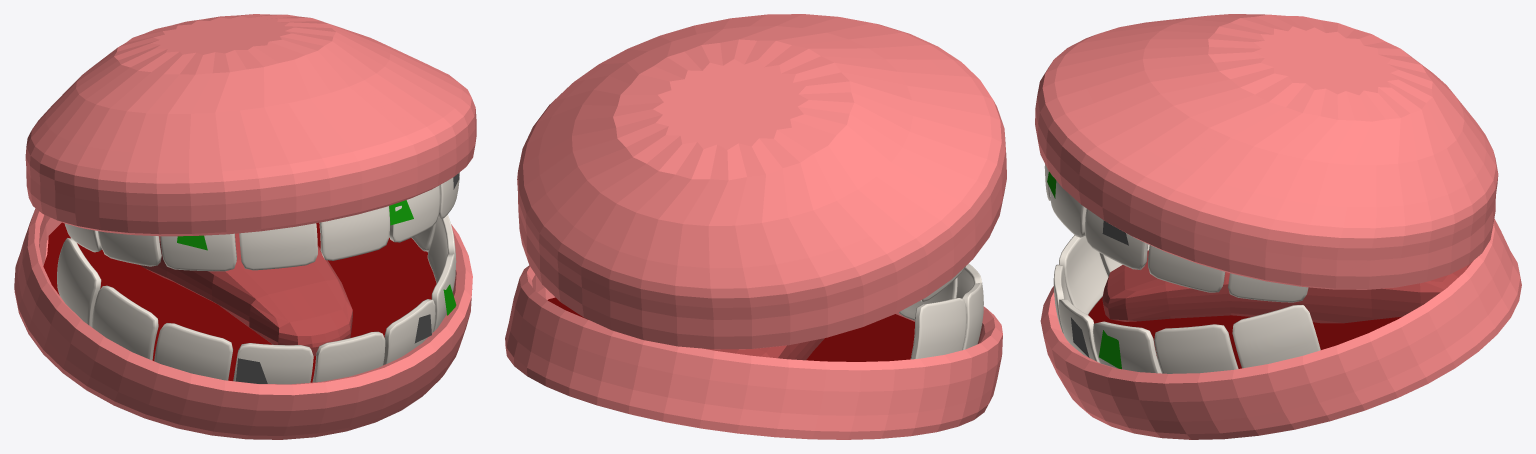
The model's file is dirty_mouth.fbx.
The picture shows the model from 3 angles, left to right: view 1: azimuth 30°, elevation 25°; view 2: azimuth 150°, elevation 25°; view 3: azimuth 270°, elevation 25°; orthographic projection. The views are drawn at different scales.
Visible parts, largest first — view 1: gums, teeth, inside, tongue, Plane.001; view 2: gums, teeth, inside, tongue; view 3: gums, teeth, tongue, inside, Plane.005.
Boxes of the visible parts, box(x1,y1,x2,y2) form: gums: box(14, 14, 476, 439); teeth: box(57, 172, 459, 384); inside: box(43, 222, 436, 382); tongue: box(140, 233, 352, 356); Plane.001: box(235, 358, 267, 383); gums: box(505, 14, 1006, 439); teeth: box(899, 263, 983, 359); inside: box(547, 297, 914, 361); tongue: box(704, 338, 824, 360); gums: box(1035, 14, 1521, 439); teeth: box(1044, 164, 1320, 373); tongue: box(1102, 250, 1472, 323); inside: box(1088, 297, 1401, 368); Plane.005: box(1099, 330, 1121, 369).
Size of the model in its own units: 1.27 by 0.9867 by 1.31.
